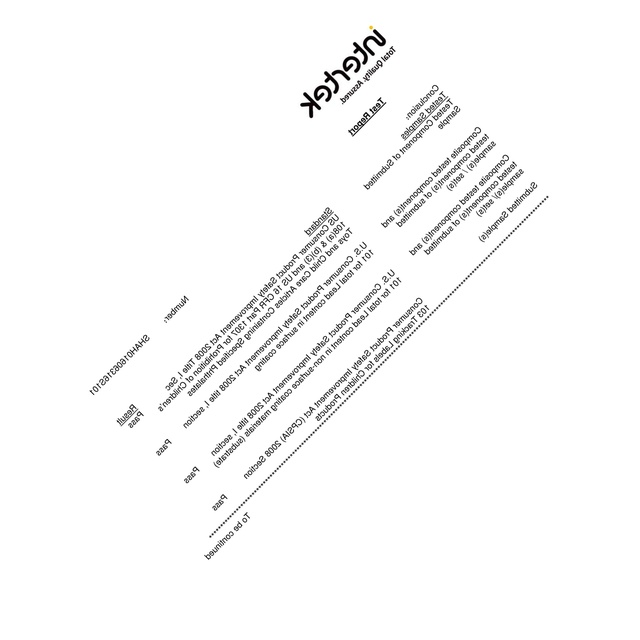intertek: (298, 22, 392, 118)
